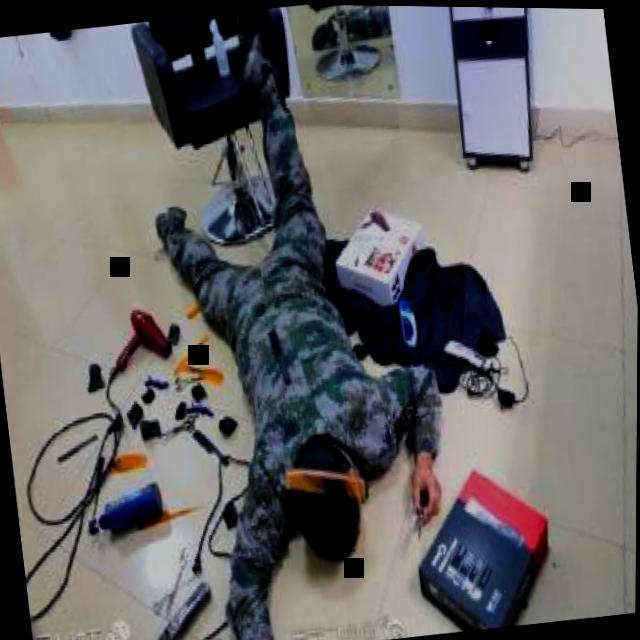Fall-Detected: (117, 1, 492, 640)
